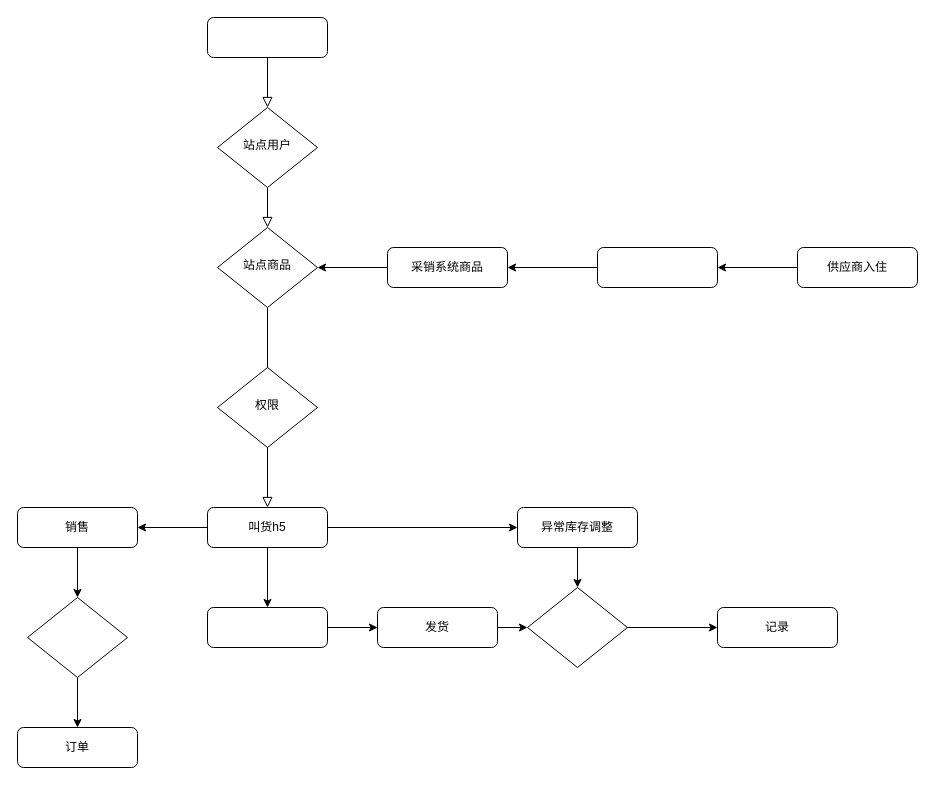
Image size: 935x785. Some labels were removed from this diagram. The shapes that lost their labels are listed below. From the top down, each one's box as (x1, y1, x2, y2) in pixels, then its label:
(206, 16, 328, 58): 站点入住
(596, 246, 718, 288): 供应商用户
(26, 596, 128, 678): 销售记录
(206, 606, 328, 648): 补货
(526, 586, 628, 668): 库存
